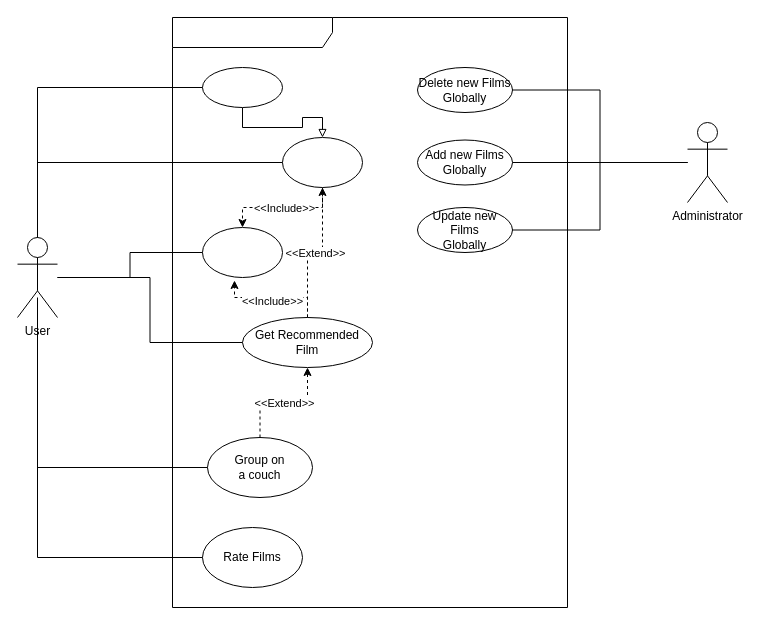
The diagram is 760 pixels wide and 625 high, and some of its shapes have lost their labels. The shapes that lost their labels are listed below. From the top down, each one's box as (x1, y1, x2, y2) in pixels, then its label:
(202, 66, 282, 108): Save Films Locally
(282, 136, 362, 188): Save Films to Favorites
(202, 226, 282, 278): Login
(172, 16, 568, 608): Meta Cinema
